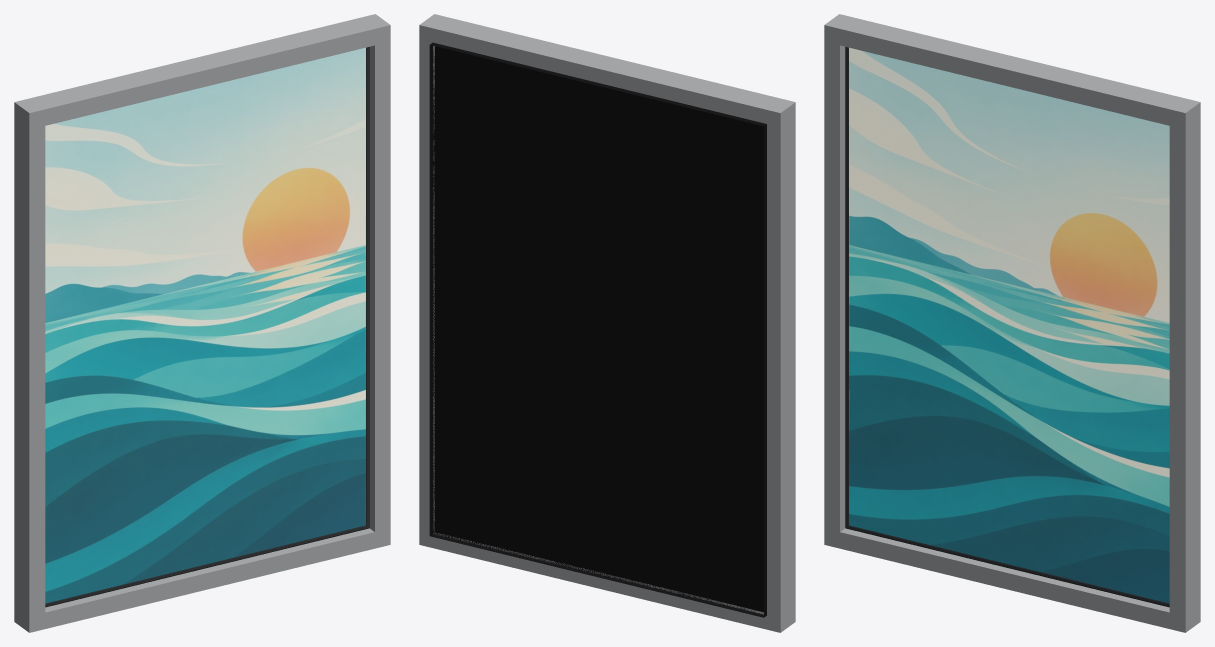
File: gteki_poster_lightbox_01.glb
3 views of the same model, side by side, from view 1: azimuth 30°, elevation 25°; view 2: azimuth 150°, elevation 25°; view 3: azimuth 330°, elevation 25° (orthographic).
Parts seen in each view (by area): view 1: VIS_body; view 2: VIS_body; view 3: VIS_body.
Boxes of the visible parts, x1,y1,x2,y2 form: VIS_body: (14, 14, 390, 632); VIS_body: (419, 14, 795, 632); VIS_body: (824, 14, 1200, 632).
Size of what is drawn, in the model's own units: 0.8 by 1.1 by 0.07.
Materials: 3 (3 with a texture image).
